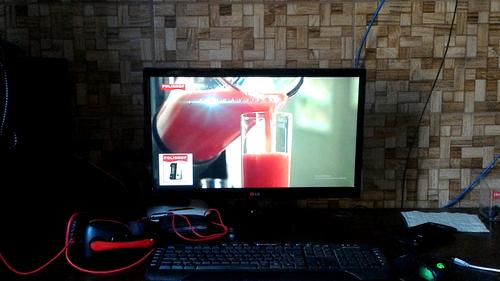Polishop #1: (158, 152, 193, 184)
